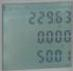1: (45, 50, 54, 63), (55, 30, 63, 44), (54, 49, 62, 63), (64, 30, 72, 43), (37, 30, 44, 44), (46, 30, 53, 44)
2: (67, 49, 72, 62)
3: (37, 11, 45, 25), (28, 12, 35, 25)
4: (64, 11, 72, 23)
6: (37, 50, 44, 64)
7: (55, 10, 63, 25)
:: (47, 11, 54, 24)
